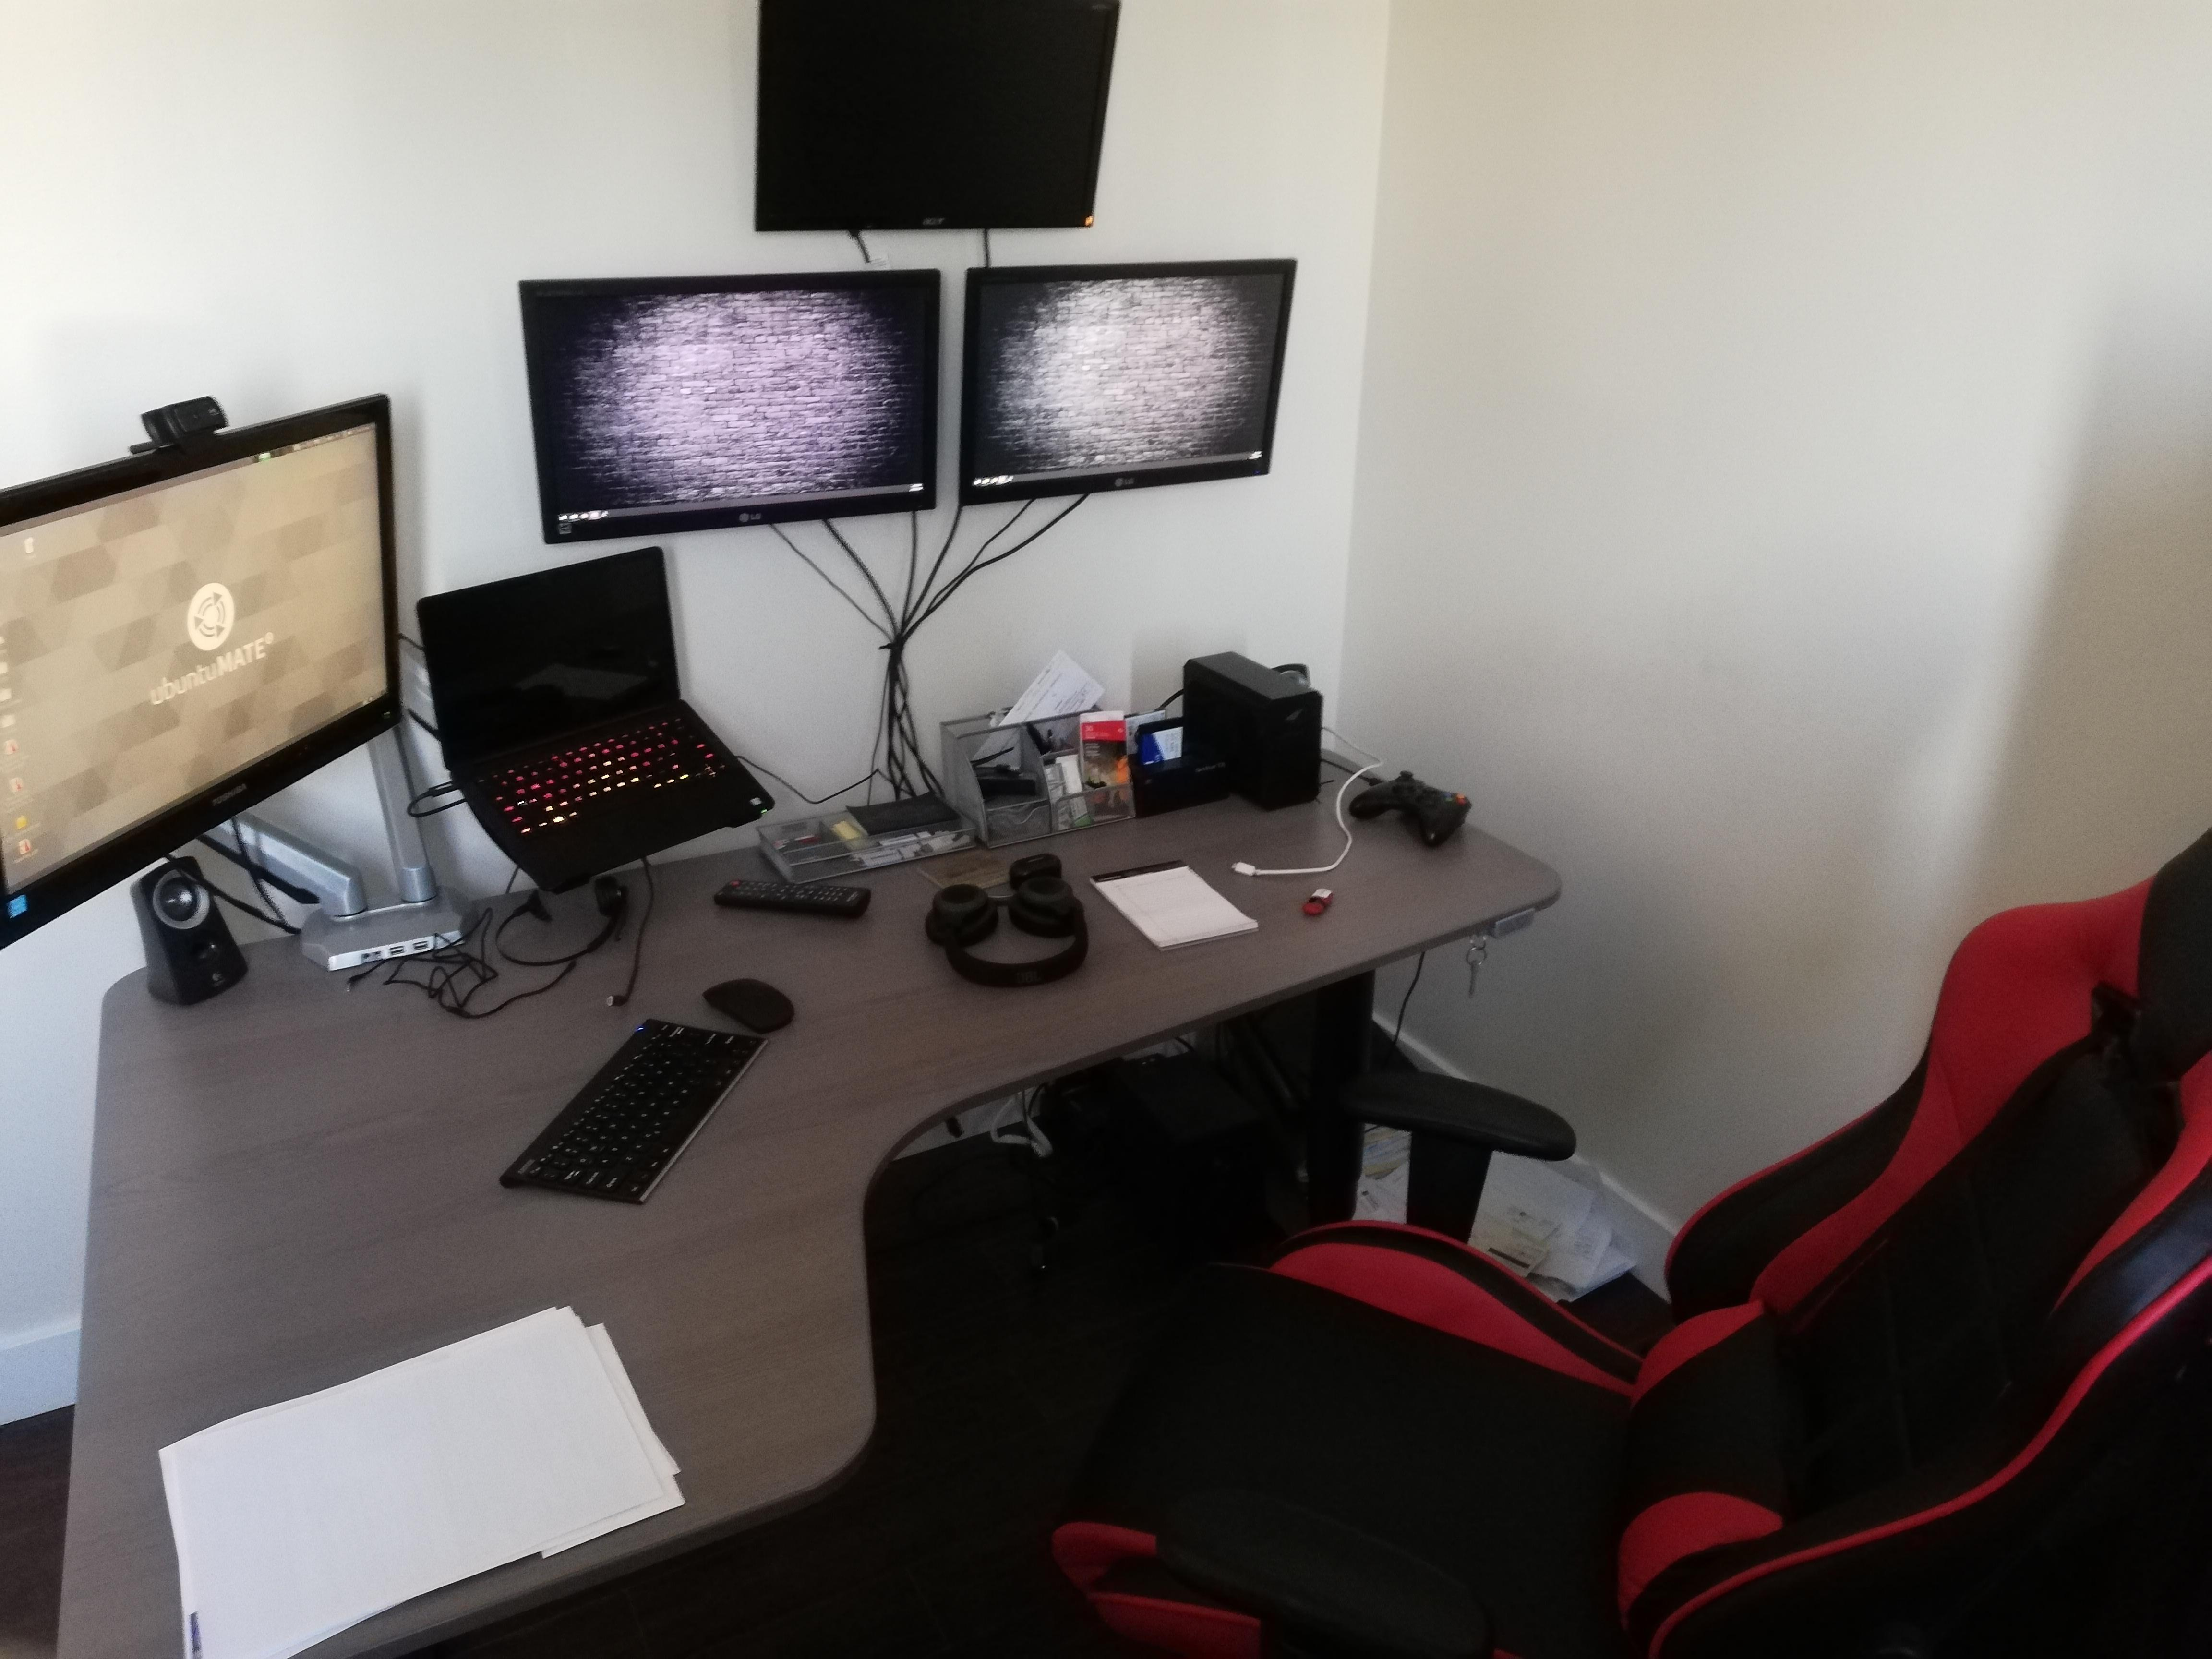Cellphone Charger (Generic): (1224, 829, 1346, 878)
Chair (Gaming): (1057, 859, 2212, 1659)
Desk (Generic): (0, 678, 1597, 1659)
External Speakers (Generic): (1195, 655, 1366, 789), (120, 878, 253, 986)
Gaming Controller: (1379, 769, 1486, 859)
Headphones: (925, 896, 1108, 995)
Keyboard (Generic): (516, 1030, 756, 1190)
Laptop (Linux): (554, 552, 655, 871)
Monitor (Landscape): (7, 404, 378, 927), (529, 284, 935, 505), (766, 5, 1092, 225), (974, 275, 1270, 472)
Monitor Arm: (242, 826, 486, 945)
Mouse (Generic): (676, 974, 815, 1037)
Notebook: (1090, 859, 1259, 967)
